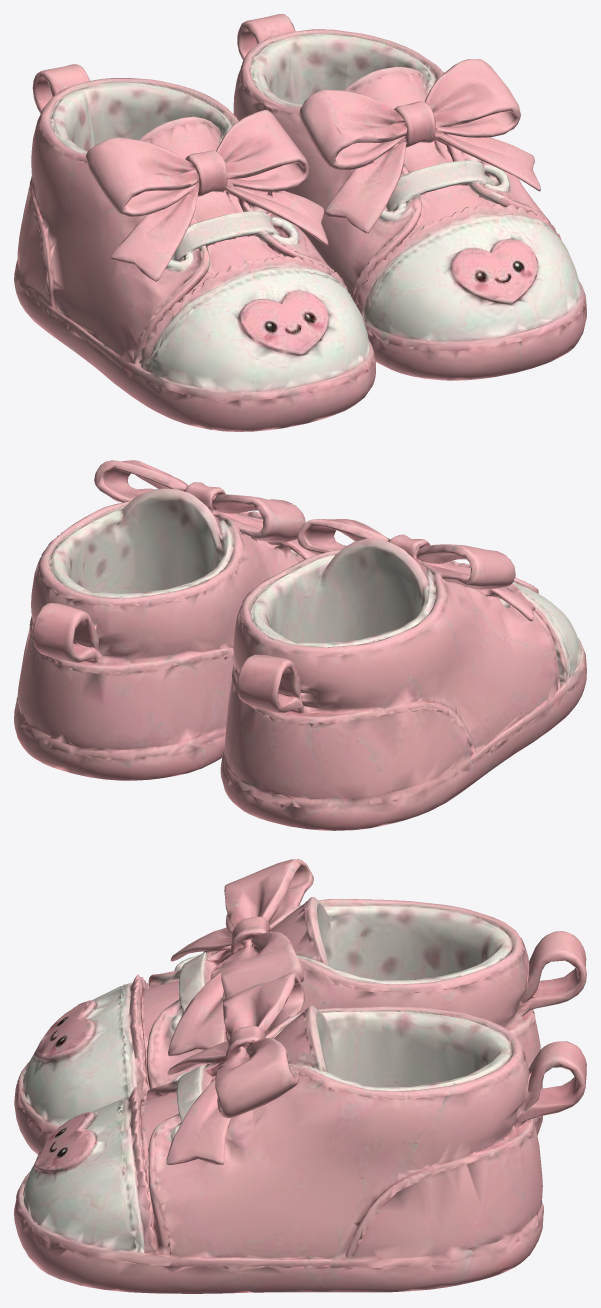
3 views of the same model, one above another, from view 1: azimuth 30°, elevation 25°; view 2: azimuth 150°, elevation 25°; view 3: azimuth 270°, elevation 25° (orthographic). The views are drawn at different scales.
Size of the model in its own units: 1.79 by 0.8421 by 1.9.
1 material, 1 textured.
